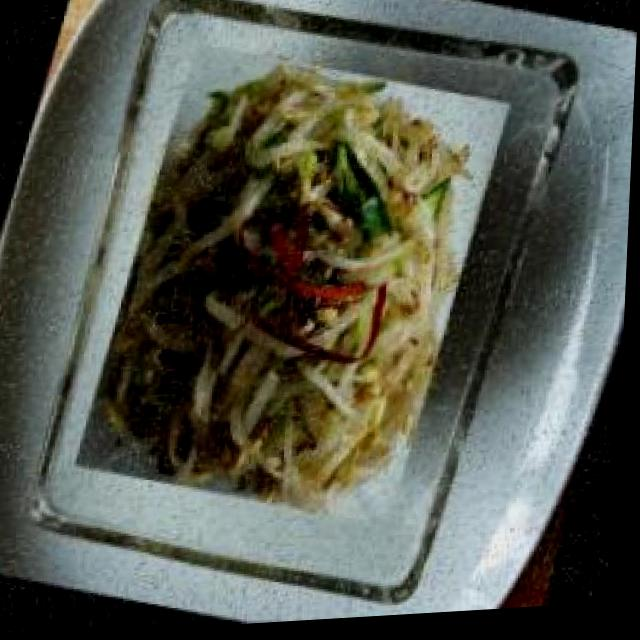mung_bean_sprouts: (74, 31, 516, 551)
